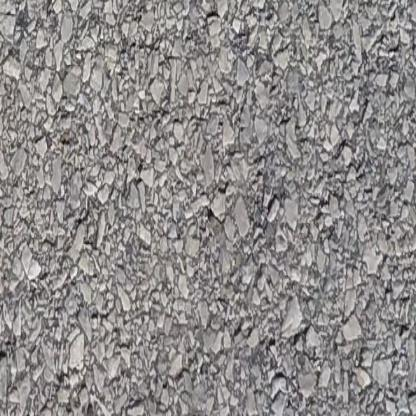Cracks: (254, 0, 377, 416)
